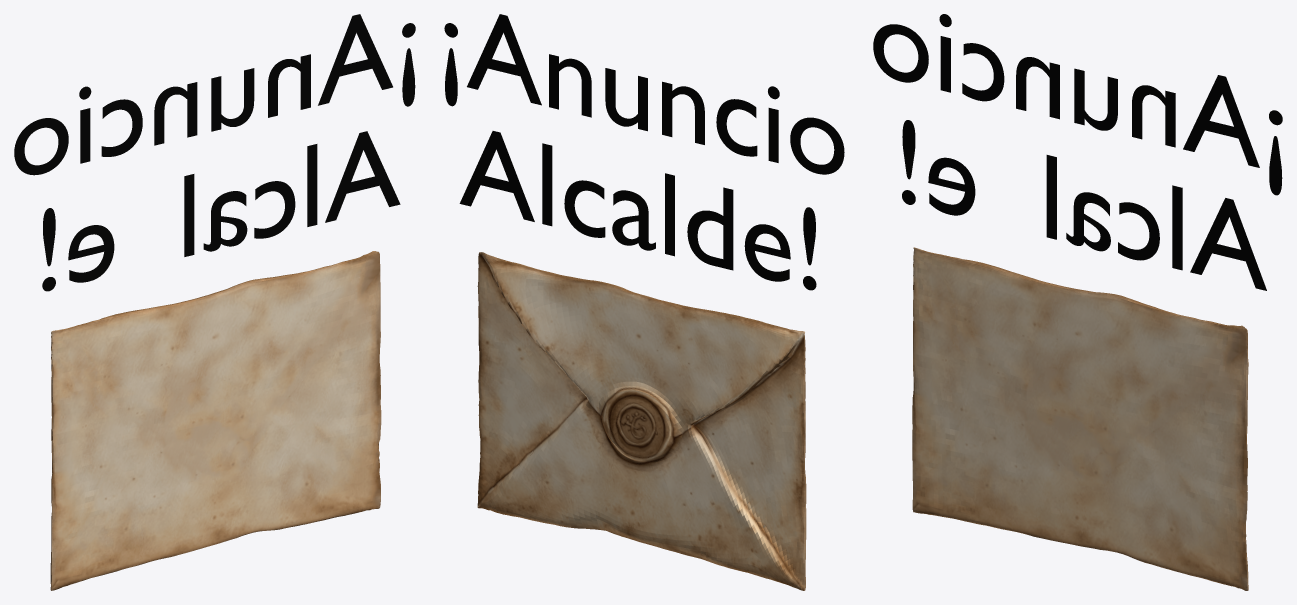
The model's file is Card.glb.
3 renders of one model, left to right at view 1: azimuth 30°, elevation 25°; view 2: azimuth 150°, elevation 25°; view 3: azimuth 330°, elevation 25°, orthographic. The views are drawn at different scales.
Parts seen in each view (by area): view 1: Card, Text; view 2: Card, Text; view 3: Card, Text.
Part boxes in pixels (bbox=[...]): Card: bbox=[50, 251, 381, 590]; Text: bbox=[14, 14, 415, 291]; Card: bbox=[477, 252, 806, 590]; Text: bbox=[444, 14, 844, 290]; Card: bbox=[912, 247, 1248, 590]; Text: bbox=[873, 14, 1282, 290].
Size of the model in its own units: 0.5304 by 0.6352 by 0.0216.
2 materials, 1 textured.
